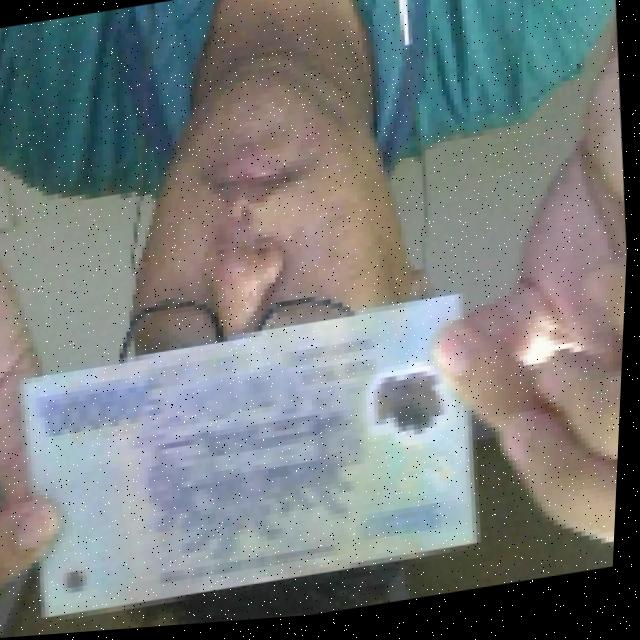500 000 VND: (7, 292, 503, 637)
